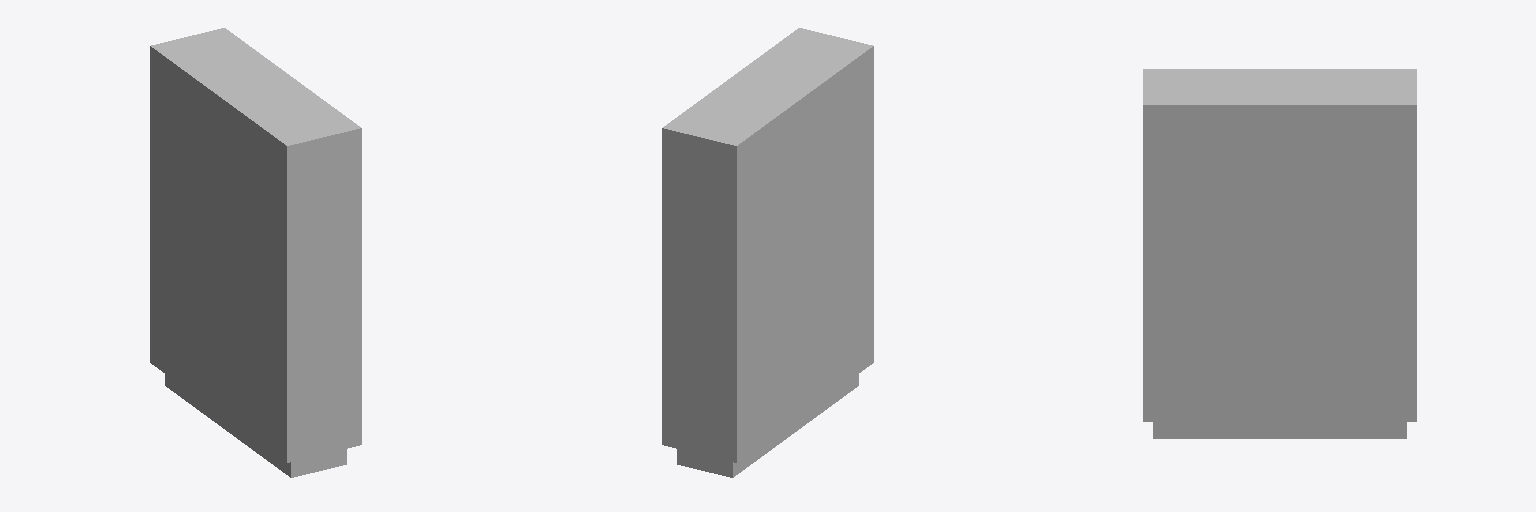
The model's file is Elec box OBJ 2.obj.
3 views of the same model, side by side, from view 1: azimuth 30°, elevation 25°; view 2: azimuth 150°, elevation 25°; view 3: azimuth 270°, elevation 25° (orthographic).
Parts seen in each view (by area): view 1: electricity_box_; view 2: electricity_box_; view 3: electricity_box_.
Part boxes in pixels (bbox=[...]): electricity_box_: bbox=[150, 28, 361, 477]; electricity_box_: bbox=[662, 28, 873, 477]; electricity_box_: bbox=[1143, 69, 1416, 438].
Size of the model in its own units: 23.94 by 104 by 76.32.